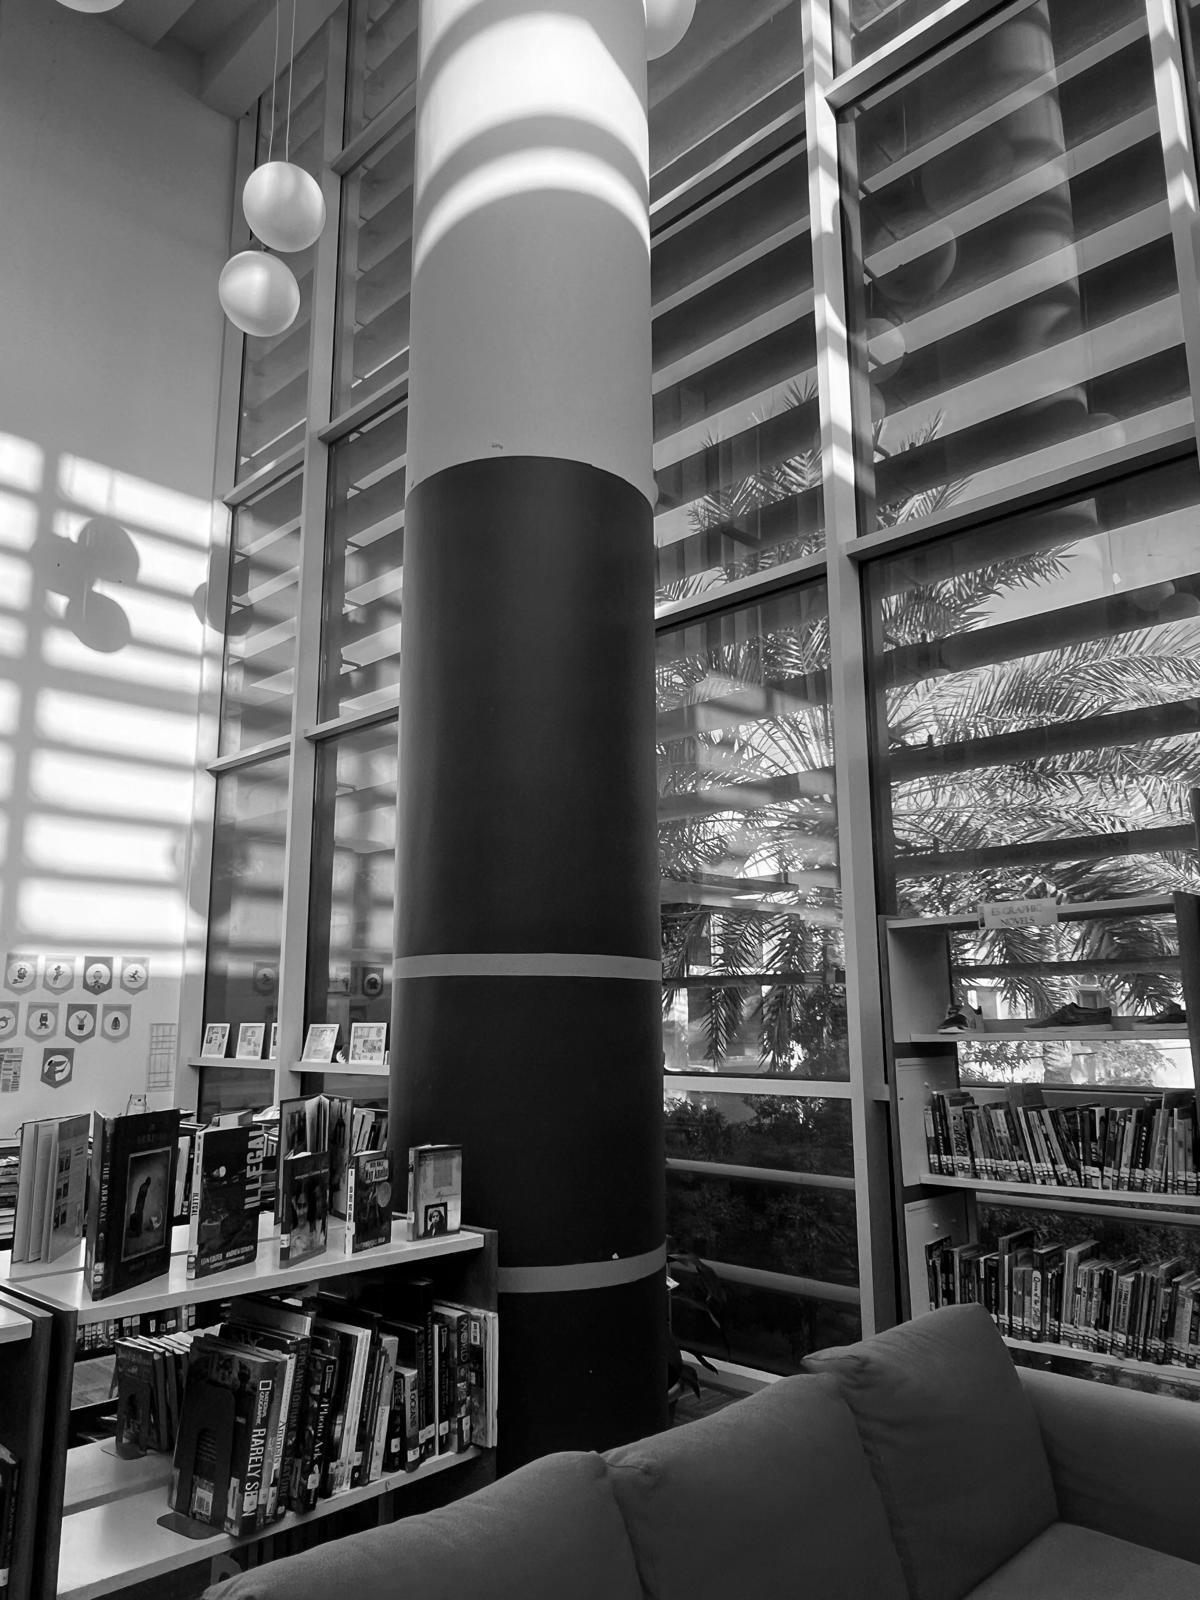Couch: (205, 1306, 1199, 1599)
Pillar: (389, 0, 691, 1471)
